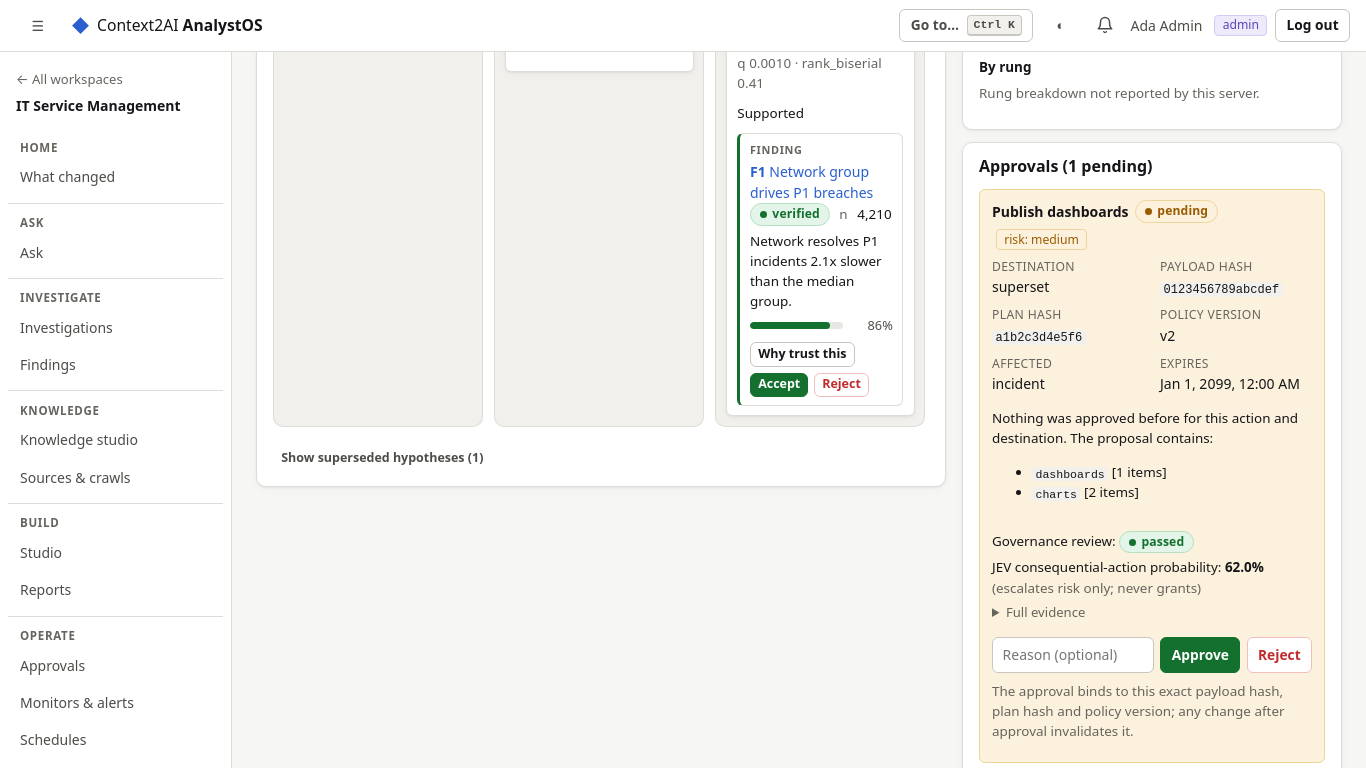
Test: investigation board › captures accept (finding outcome) and reject (feedback) signals
(page scrolled)
Step 1. Click the button "Accept" → (779, 385), box [750,373,808,397]
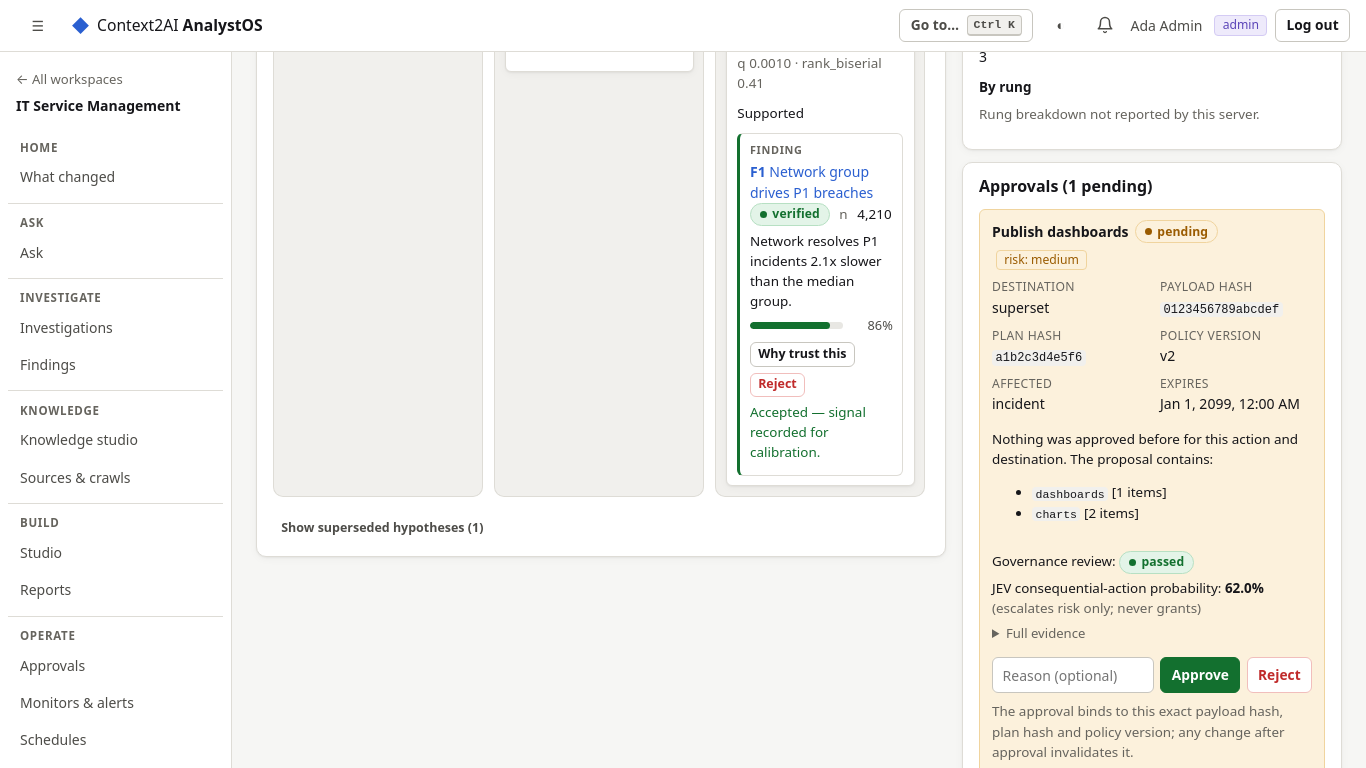
Expected: the text "Accepted — signal recorded for calibration." is shown, [750,403,866,461]
Step 2. Click the button "Reject" below "86" → (778, 385), box [750,373,805,397]
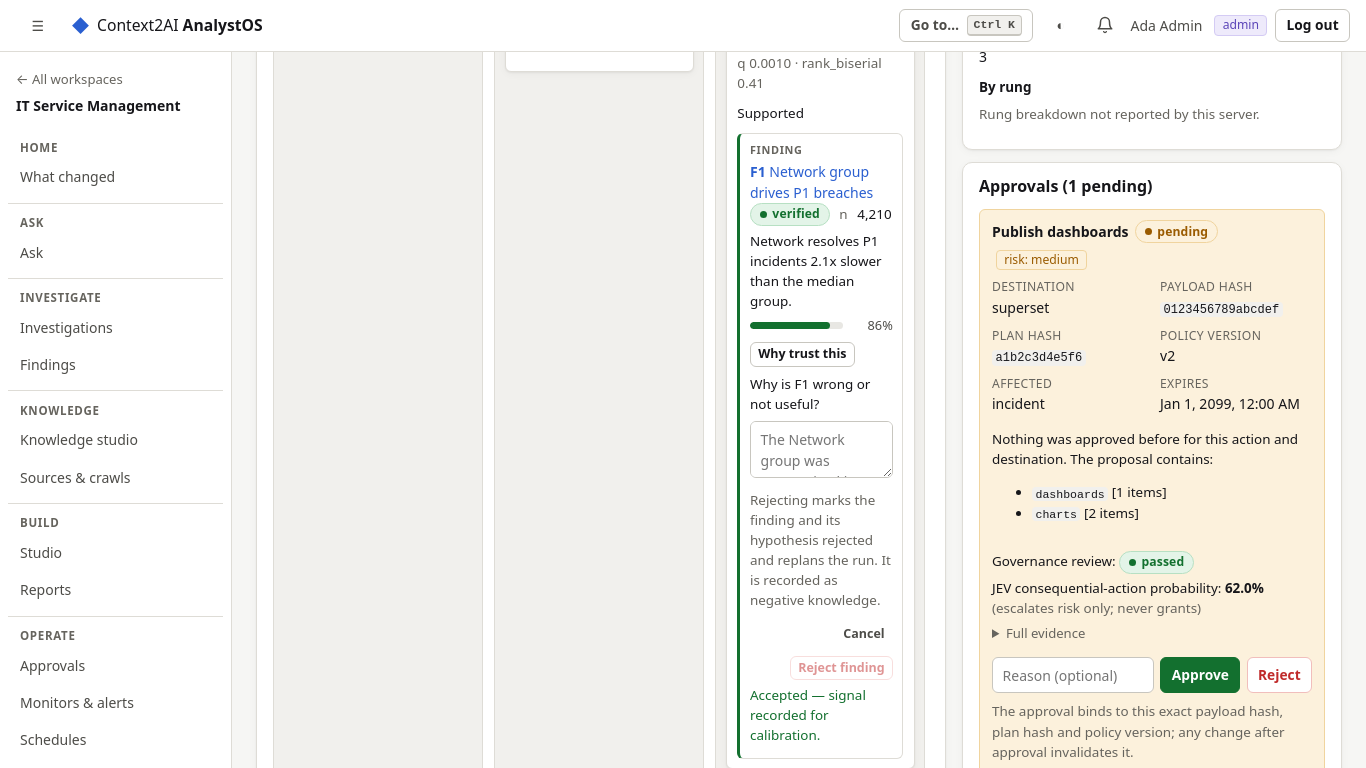
Step 3. Replace the text in the text box labelled "Why is F1 wrong or not useful?" with "Network was reorganised in August." → (821, 450), box [750,421,893,478]
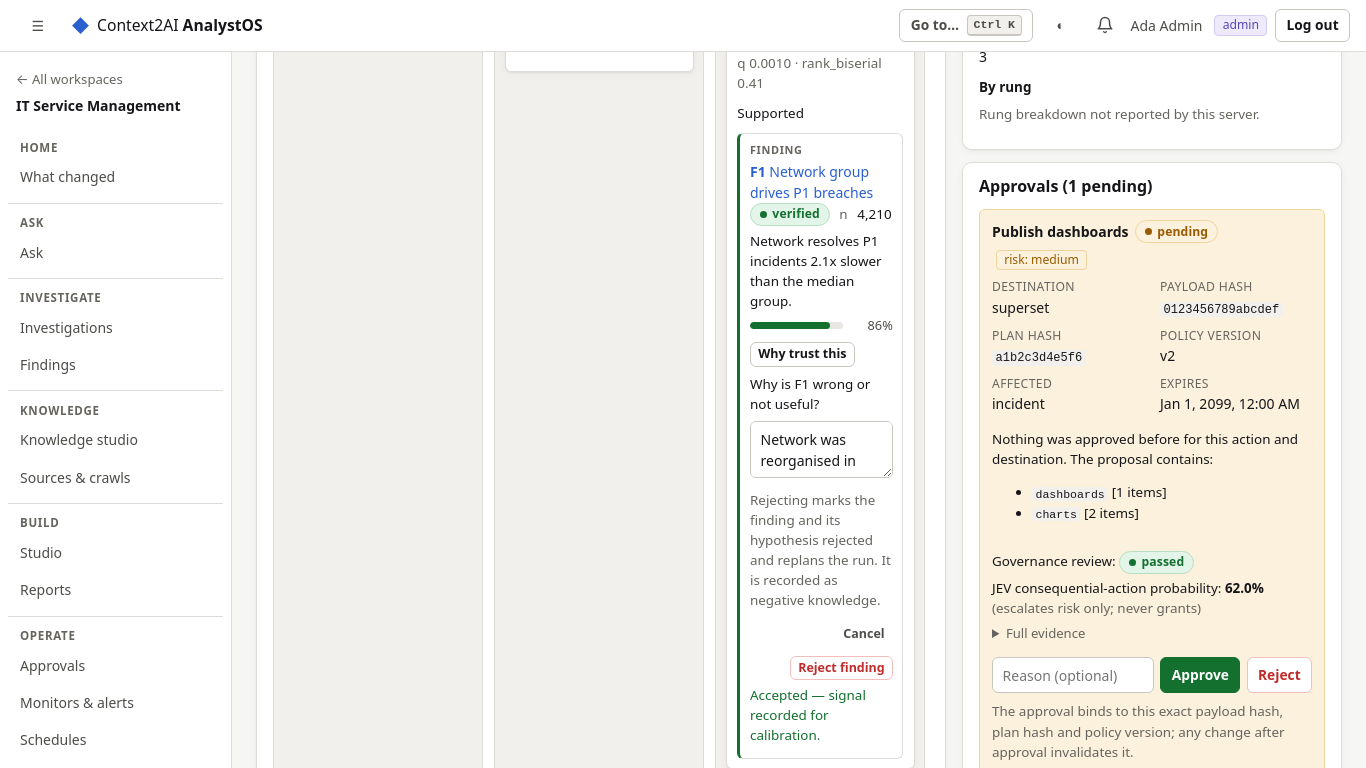
Step 4. Click the button "Reject finding" → (841, 668), box [790,656,893,680]
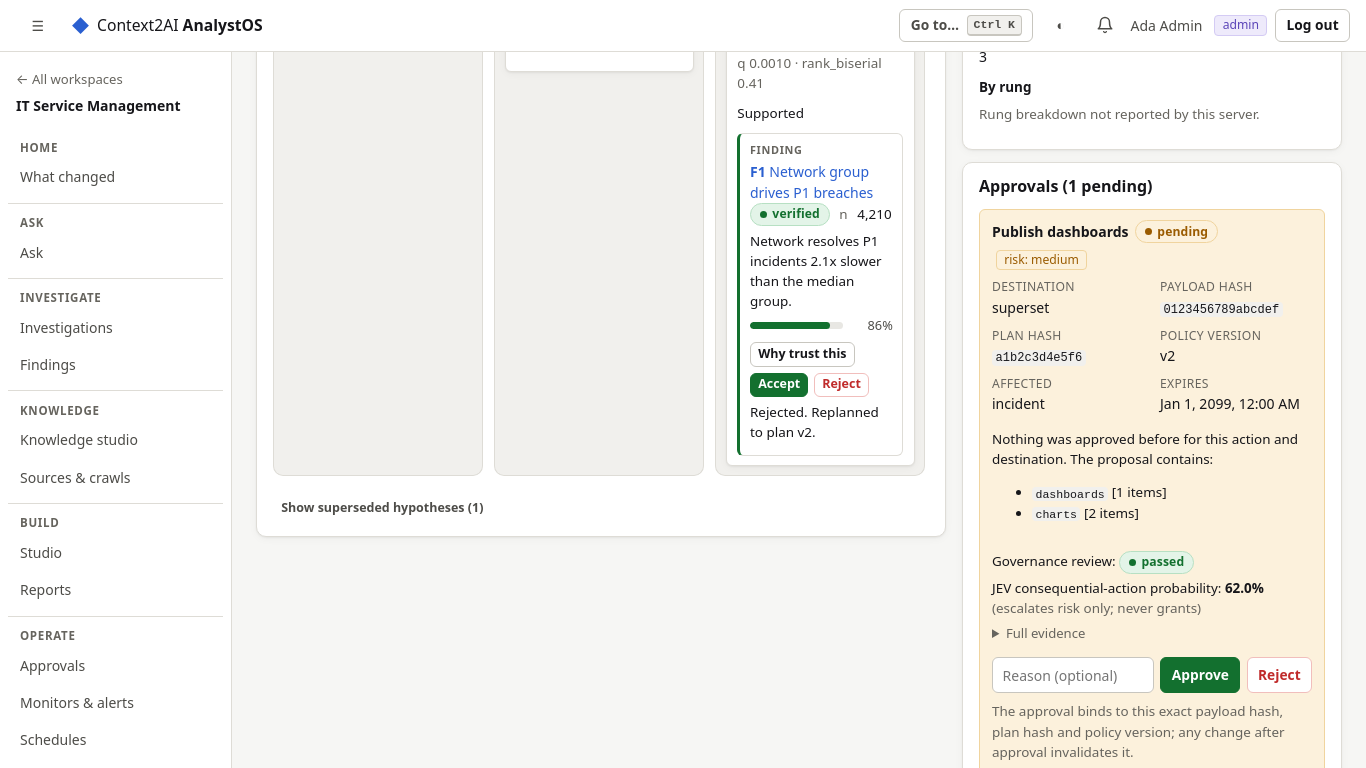
Expected: the text "Rejected. Replanned to plan v2." is shown, [750,402,893,442]
